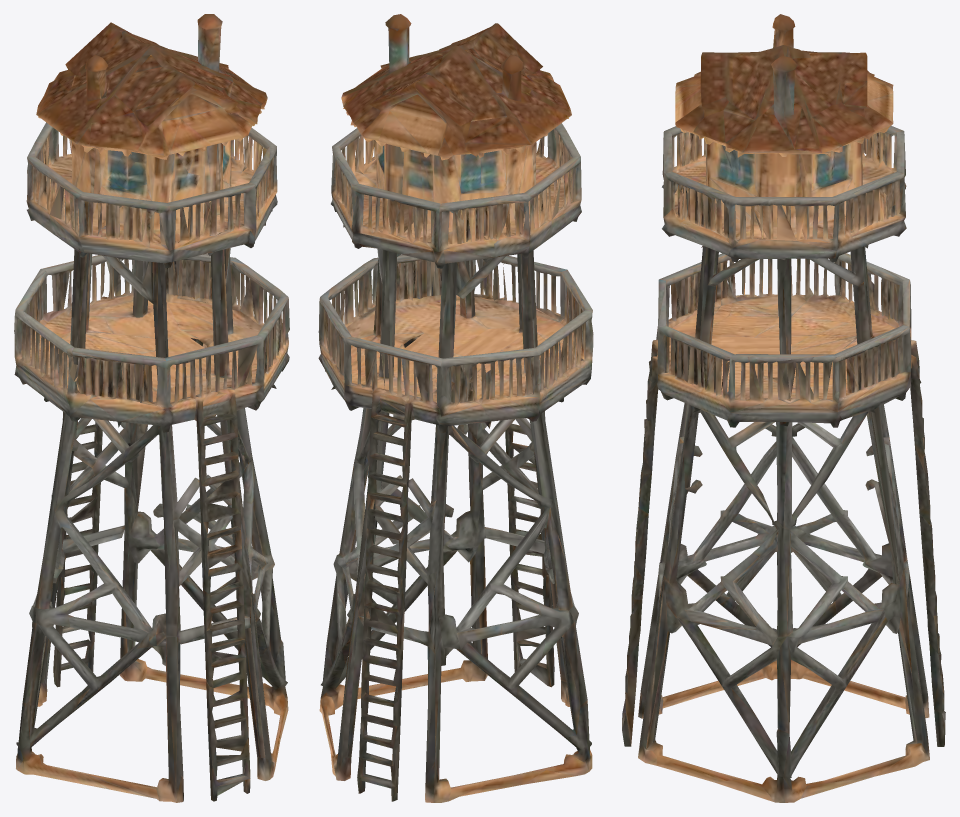
File: prop-fire-watchtower.glb
3 views of the same model, side by side, from view 1: azimuth 30°, elevation 25°; view 2: azimuth 150°, elevation 25°; view 3: azimuth 270°, elevation 25° (orthographic).
Bounding box in the file's own units: 0.755 × 1.91 × 0.79.
1 material, 1 textured.
